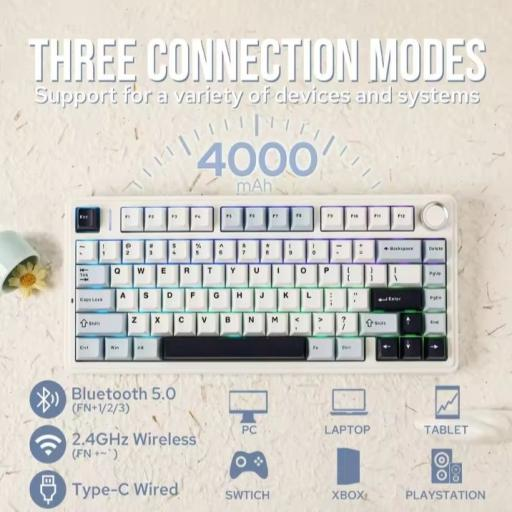KEYBOARD-2: (65, 195, 457, 373)
